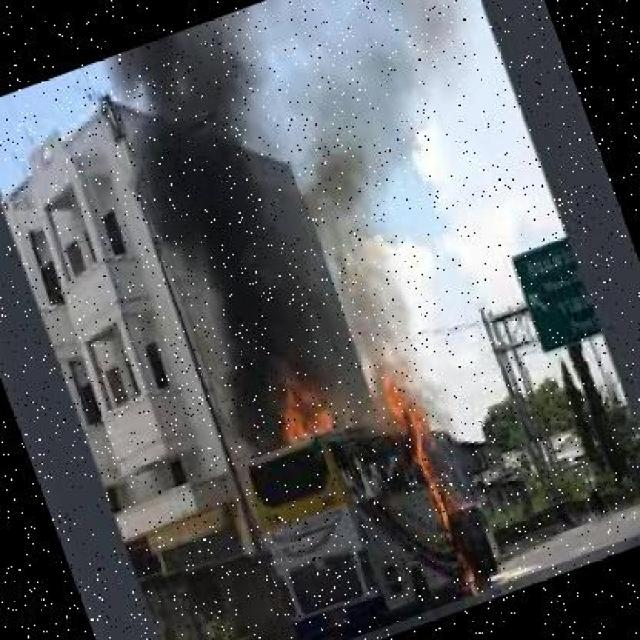fire: (351, 345, 500, 609), (251, 351, 354, 463)
